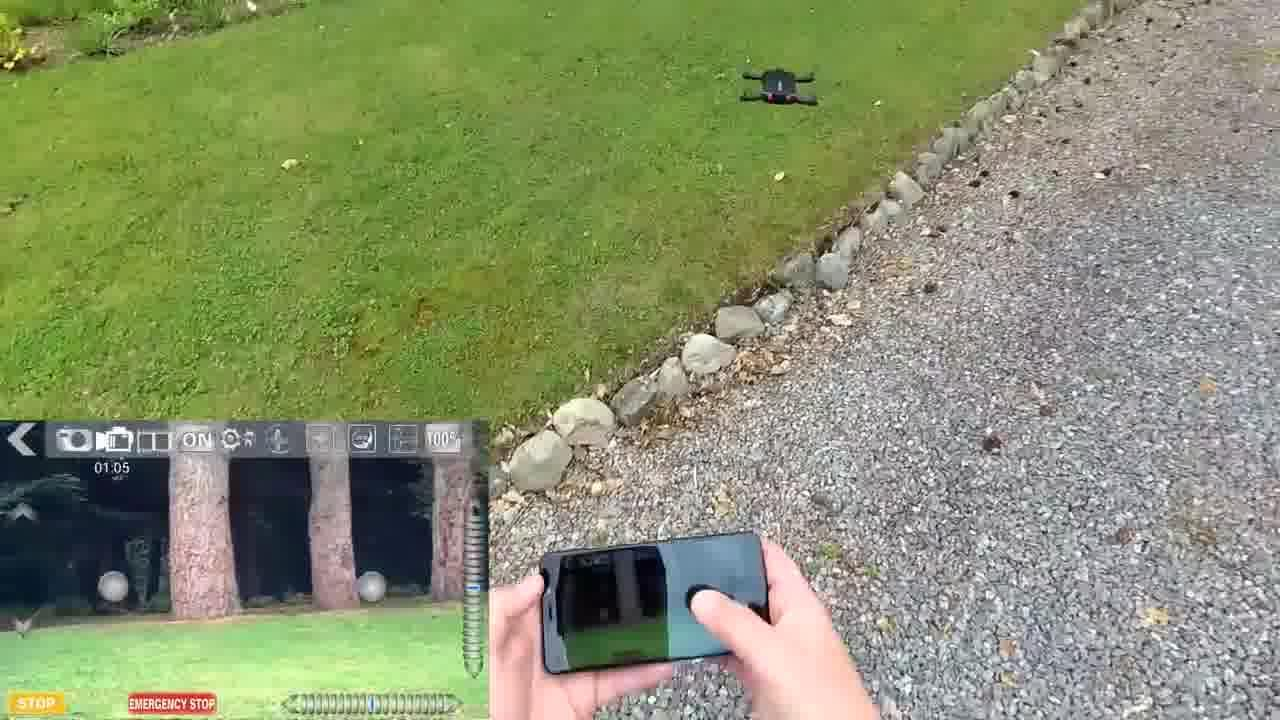drone: (730, 59, 826, 118)
